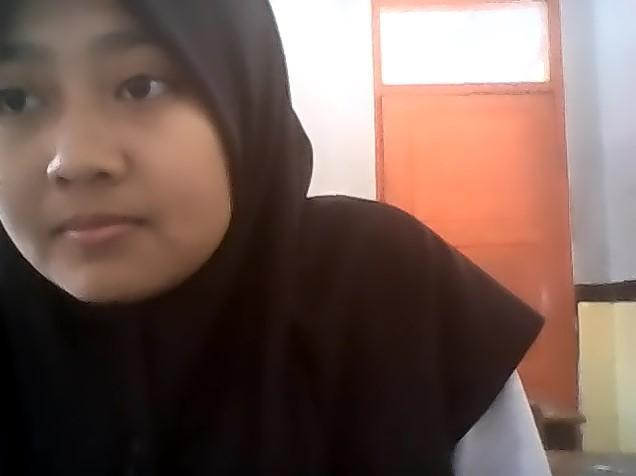cheating: (0, 0, 636, 472)
